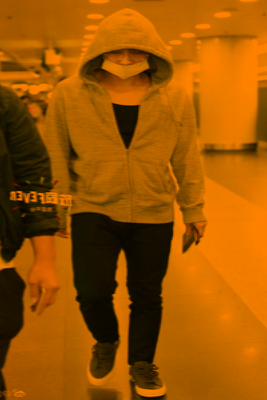mask_weared_incorrect: (100, 47, 150, 80)
